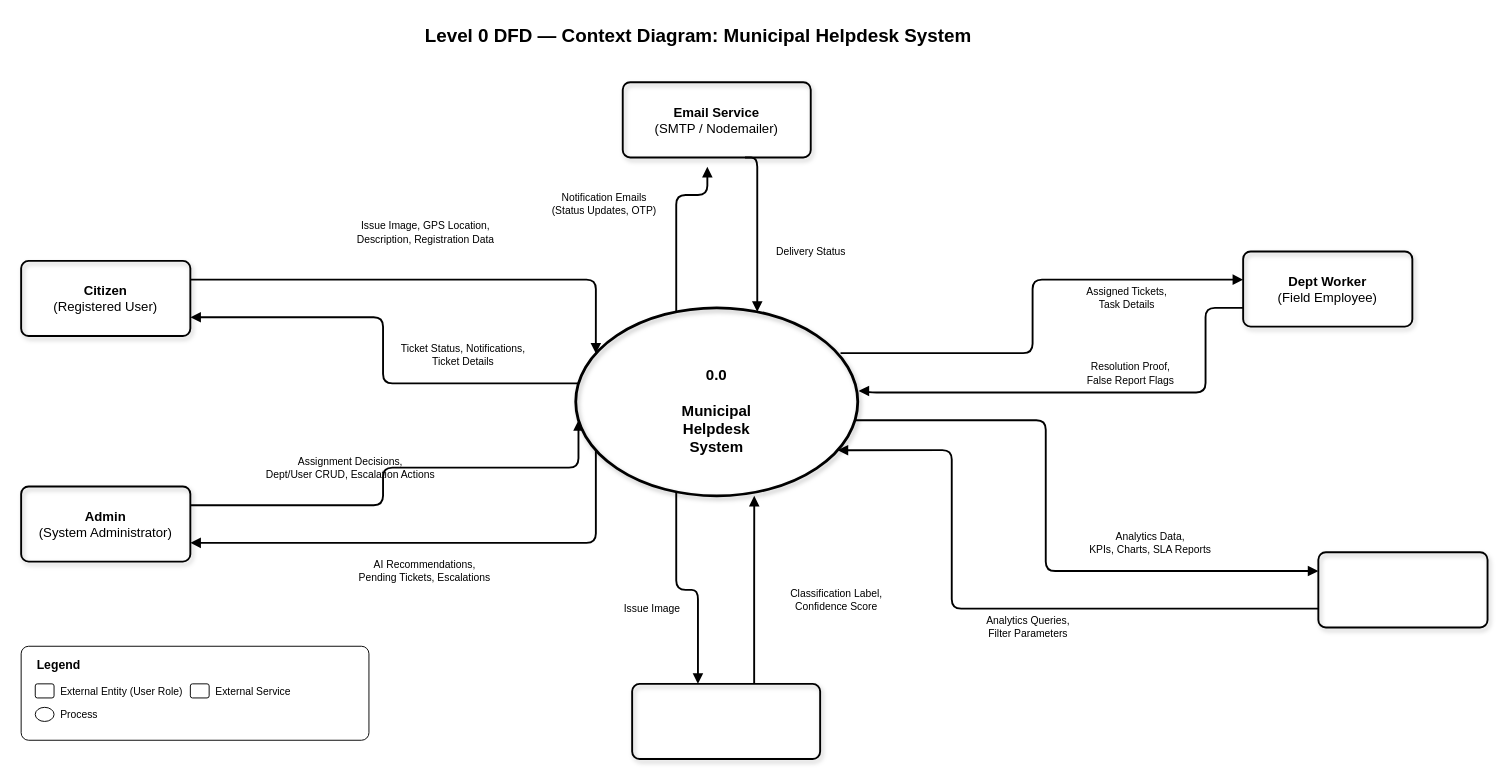
The diagram is 1510 pixels wide and 782 high, and some of its shapes have lost their labels. Here are the shapes that lost their labels. From the top down, the centre of each, then its label:
At point 1403,590: "Officer (Executive Viewer)".
At point 726,722: "AI Classification Service (Google Vision / TF.js)".
